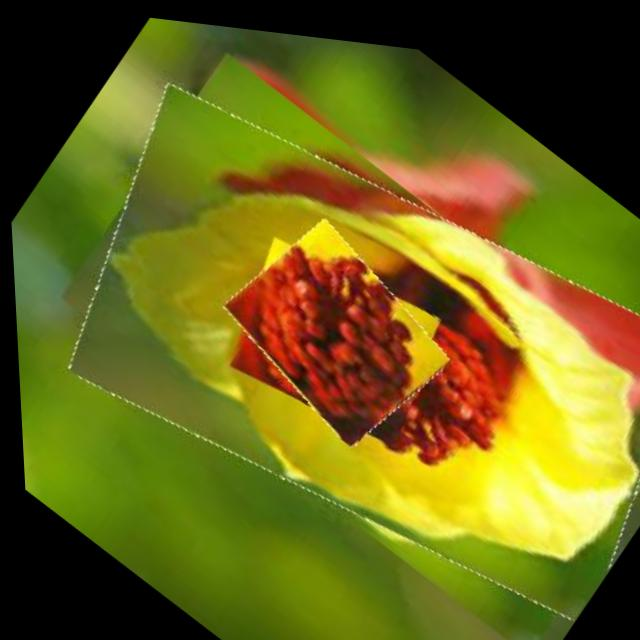Flower: (16, 1, 640, 640), (204, 193, 463, 458)
